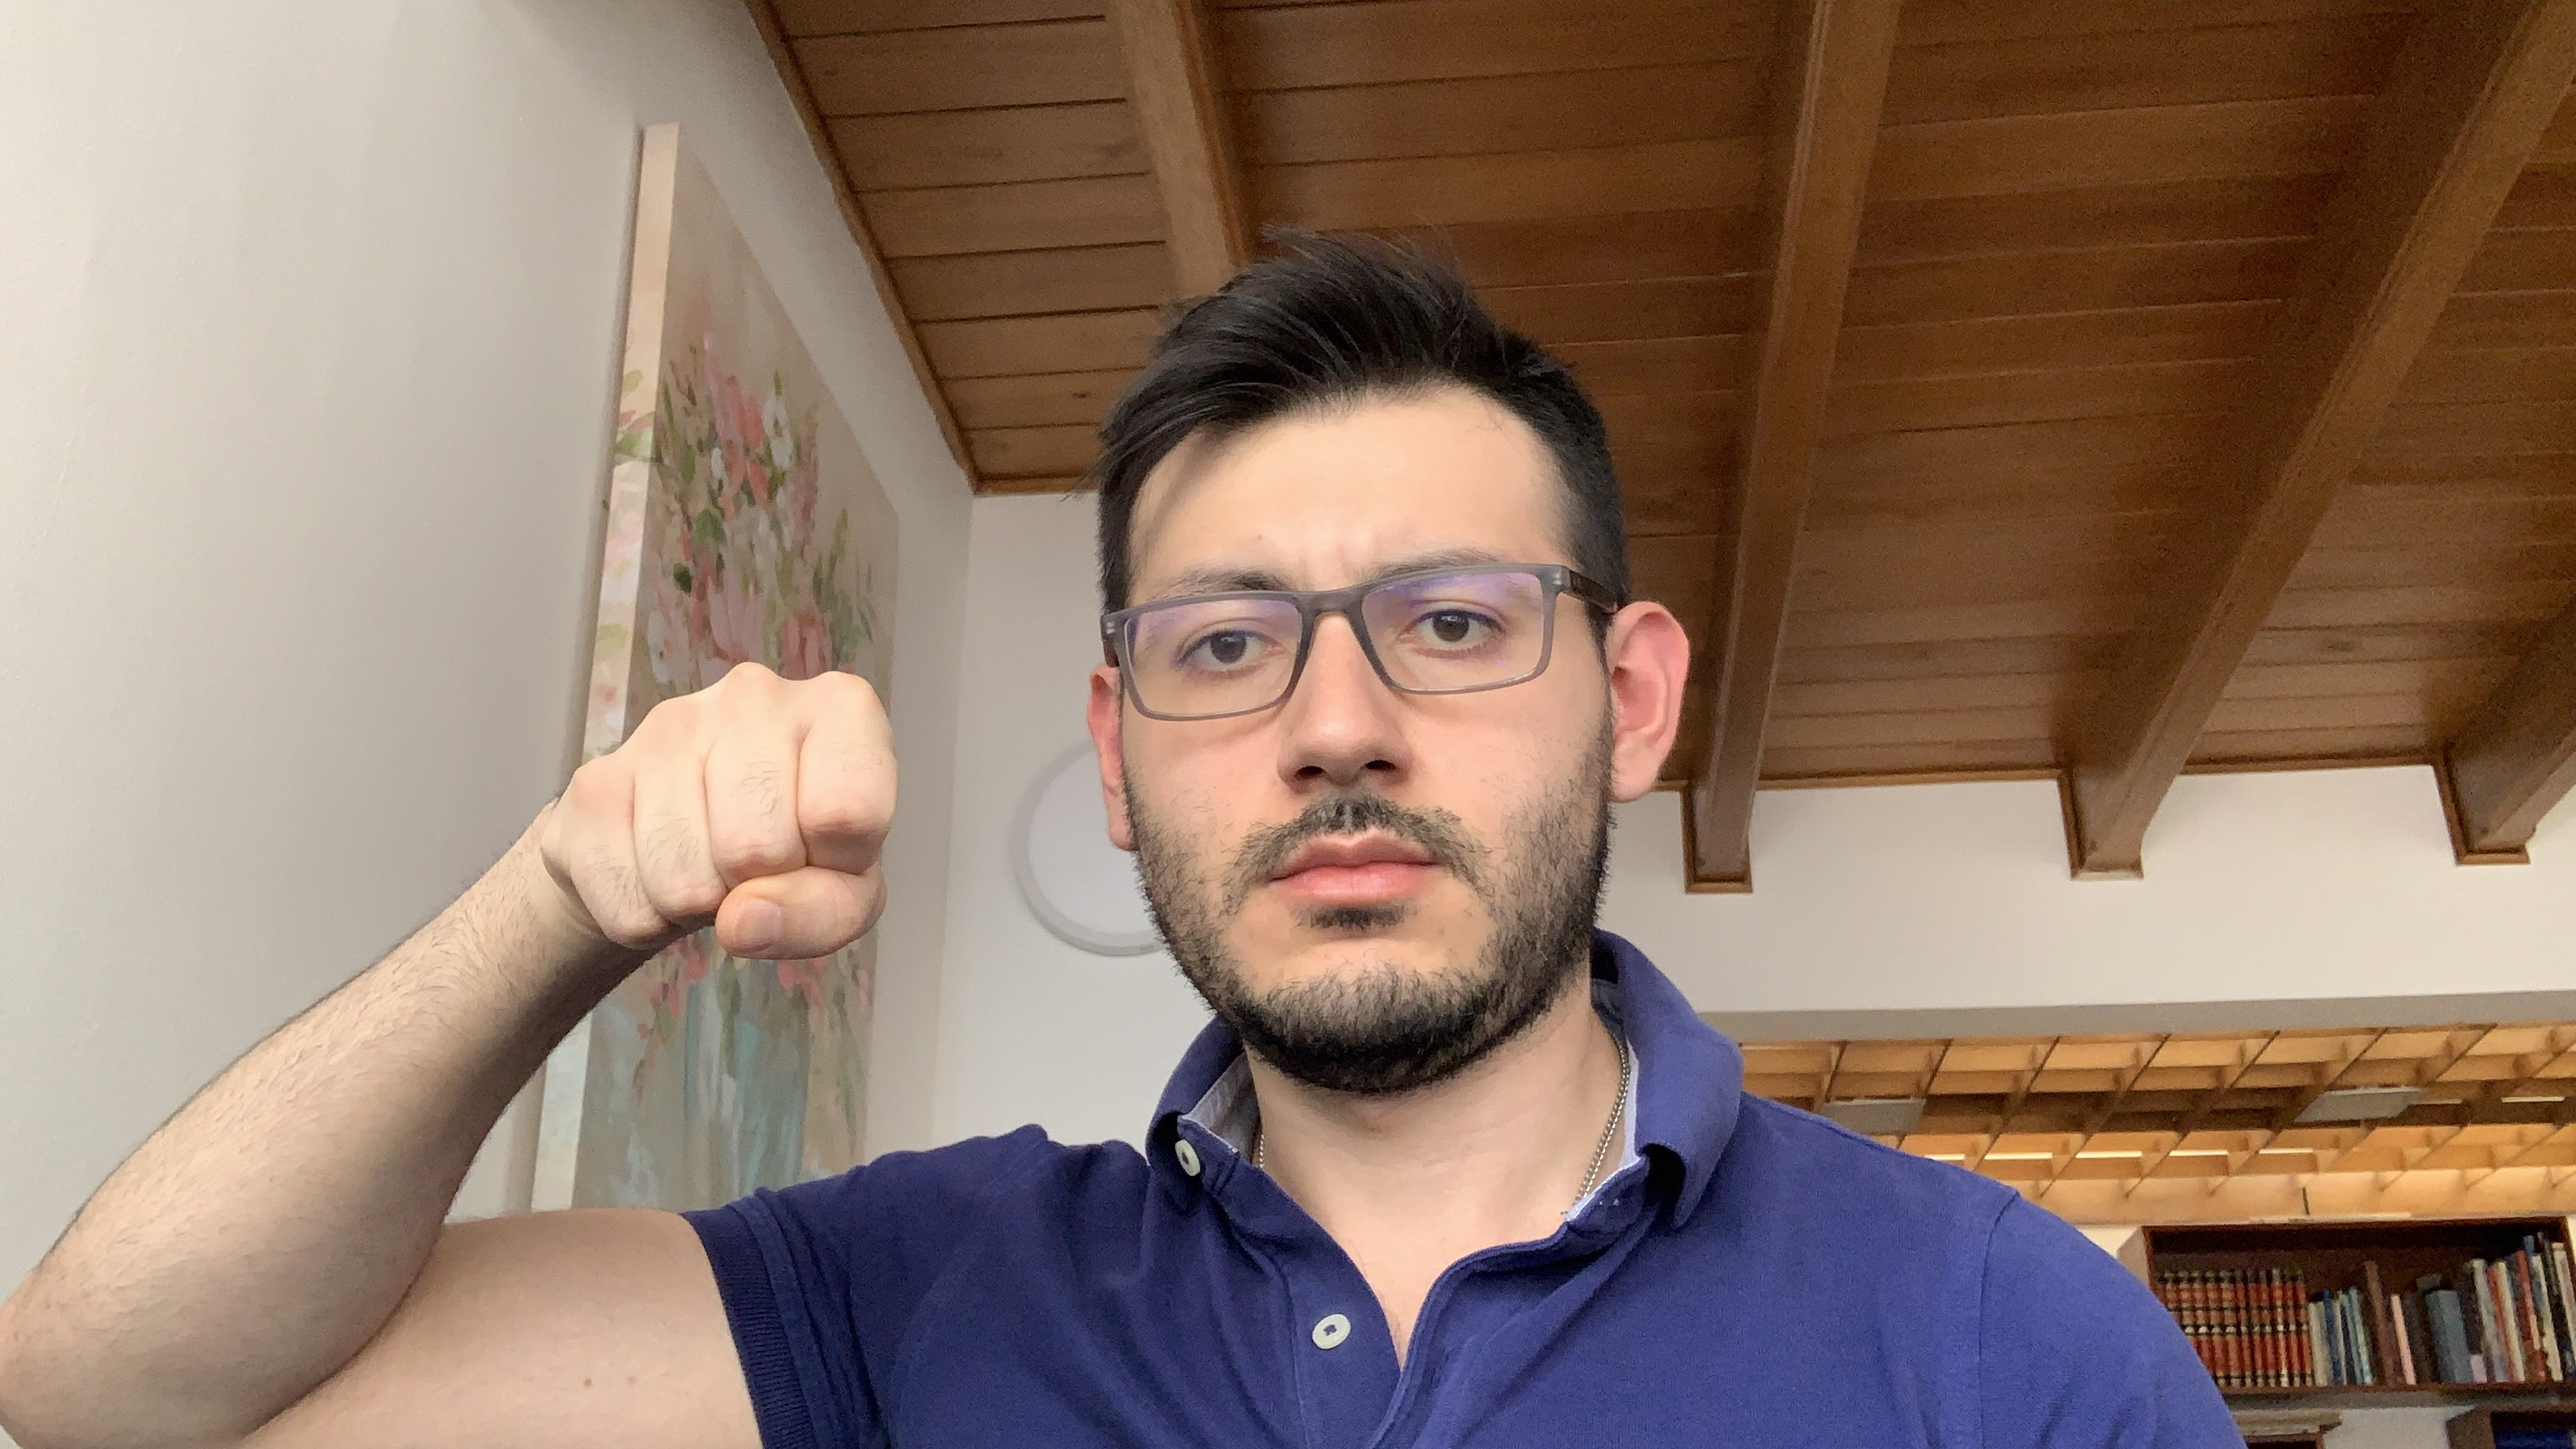Yes: (524, 646, 909, 978)
